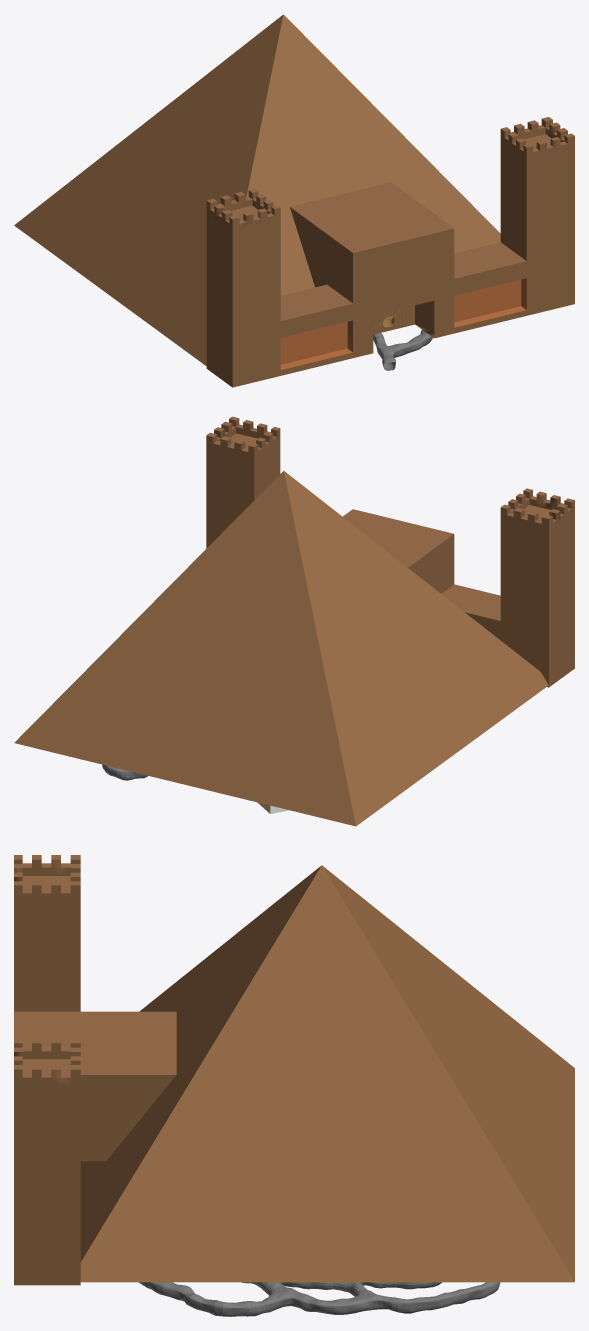
File: Tutorial pyramid.fbx
3 renders of one model, top to bottom at view 1: azimuth 30°, elevation 25°; view 2: azimuth 150°, elevation 25°; view 3: azimuth 270°, elevation 25°, orthographic. The views are drawn at different scales.
Visible parts, largest first — view 1: Cone, Cube.002; view 2: Cone; view 3: Cone, Cube.002.
Boxes of the visible parts, x1,y1,x2,y2 form: Cone: [14, 14, 574, 387]; Cube.002: [373, 330, 432, 370]; Cone: [14, 416, 574, 826]; Cone: [14, 855, 574, 1285]; Cube.002: [138, 1282, 500, 1316].
Bounding box in the file's own units: 1420 × 1120 × 1570.
